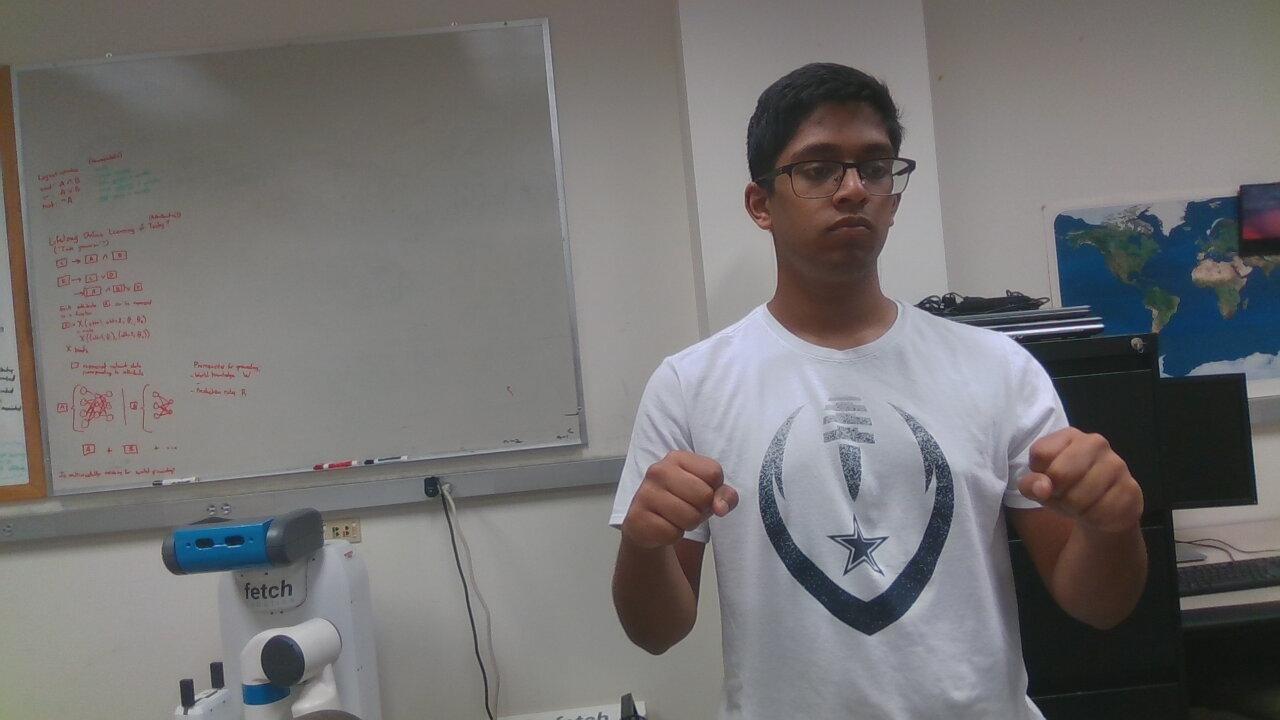fist: (1006, 397, 1161, 560), (600, 437, 754, 576)
